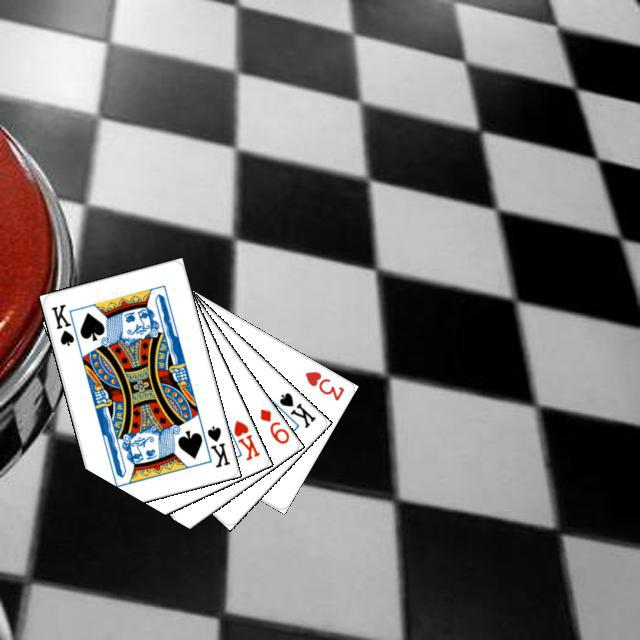3h: (300, 366, 346, 403)
9d: (255, 404, 291, 446)
Kh: (220, 415, 262, 462)
Ks: (274, 388, 317, 430), (47, 299, 82, 348), (202, 421, 232, 469)
